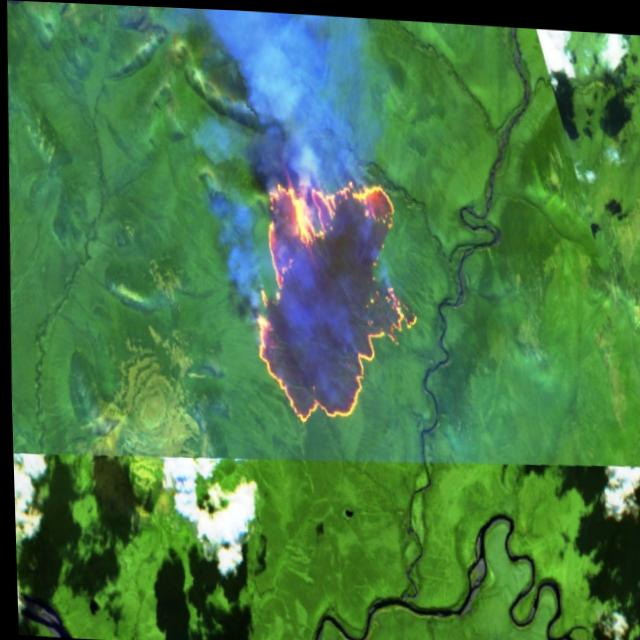fire: (242, 160, 427, 429)
